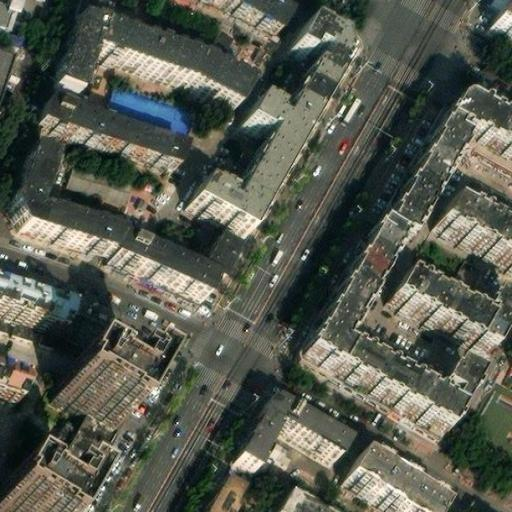building: (187, 17, 344, 237), (94, 17, 254, 105), (10, 143, 122, 257), (324, 340, 453, 427), (41, 93, 185, 169), (372, 115, 457, 234), (373, 281, 487, 357), (112, 233, 236, 300), (56, 365, 148, 436), (341, 454, 444, 512), (430, 90, 512, 160), (52, 0, 113, 91), (297, 281, 361, 363), (102, 81, 196, 136), (434, 201, 512, 267), (334, 219, 396, 296), (0, 276, 74, 326), (276, 409, 349, 458), (236, 399, 285, 468), (66, 158, 130, 203), (430, 362, 469, 404), (272, 485, 329, 512), (202, 477, 245, 512), (0, 364, 28, 403), (485, 4, 512, 42), (0, 41, 17, 98)
